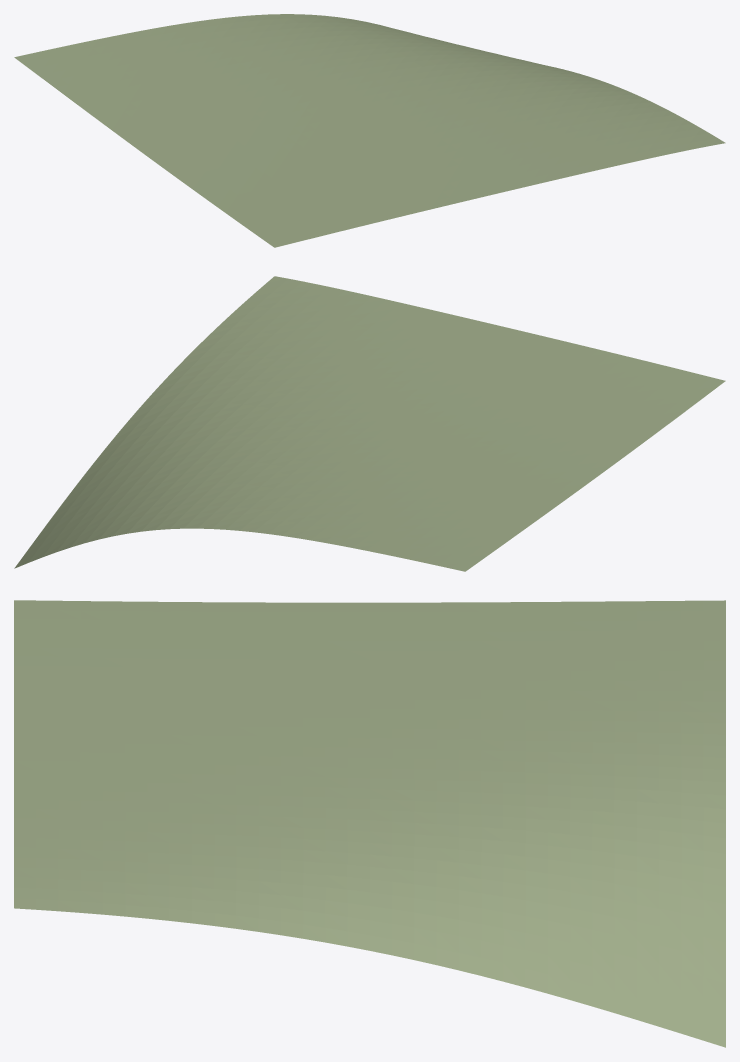
The model's file is expanse-13-30.glb.
The picture shows the model from 3 angles, top to bottom: view 1: azimuth 30°, elevation 25°; view 2: azimuth 150°, elevation 25°; view 3: azimuth 270°, elevation 25°; orthographic projection. The views are drawn at different scales.
Visible parts, largest first — view 1: expanse-13-30; view 2: expanse-13-30; view 3: expanse-13-30.
Part boxes in pixels (x1,y1,x2,y2): expanse-13-30: (14,14,725,247); expanse-13-30: (14,276,725,571); expanse-13-30: (14,600,725,1047).
Bounding box in the file's own units: 256 × 58.39 × 256.
